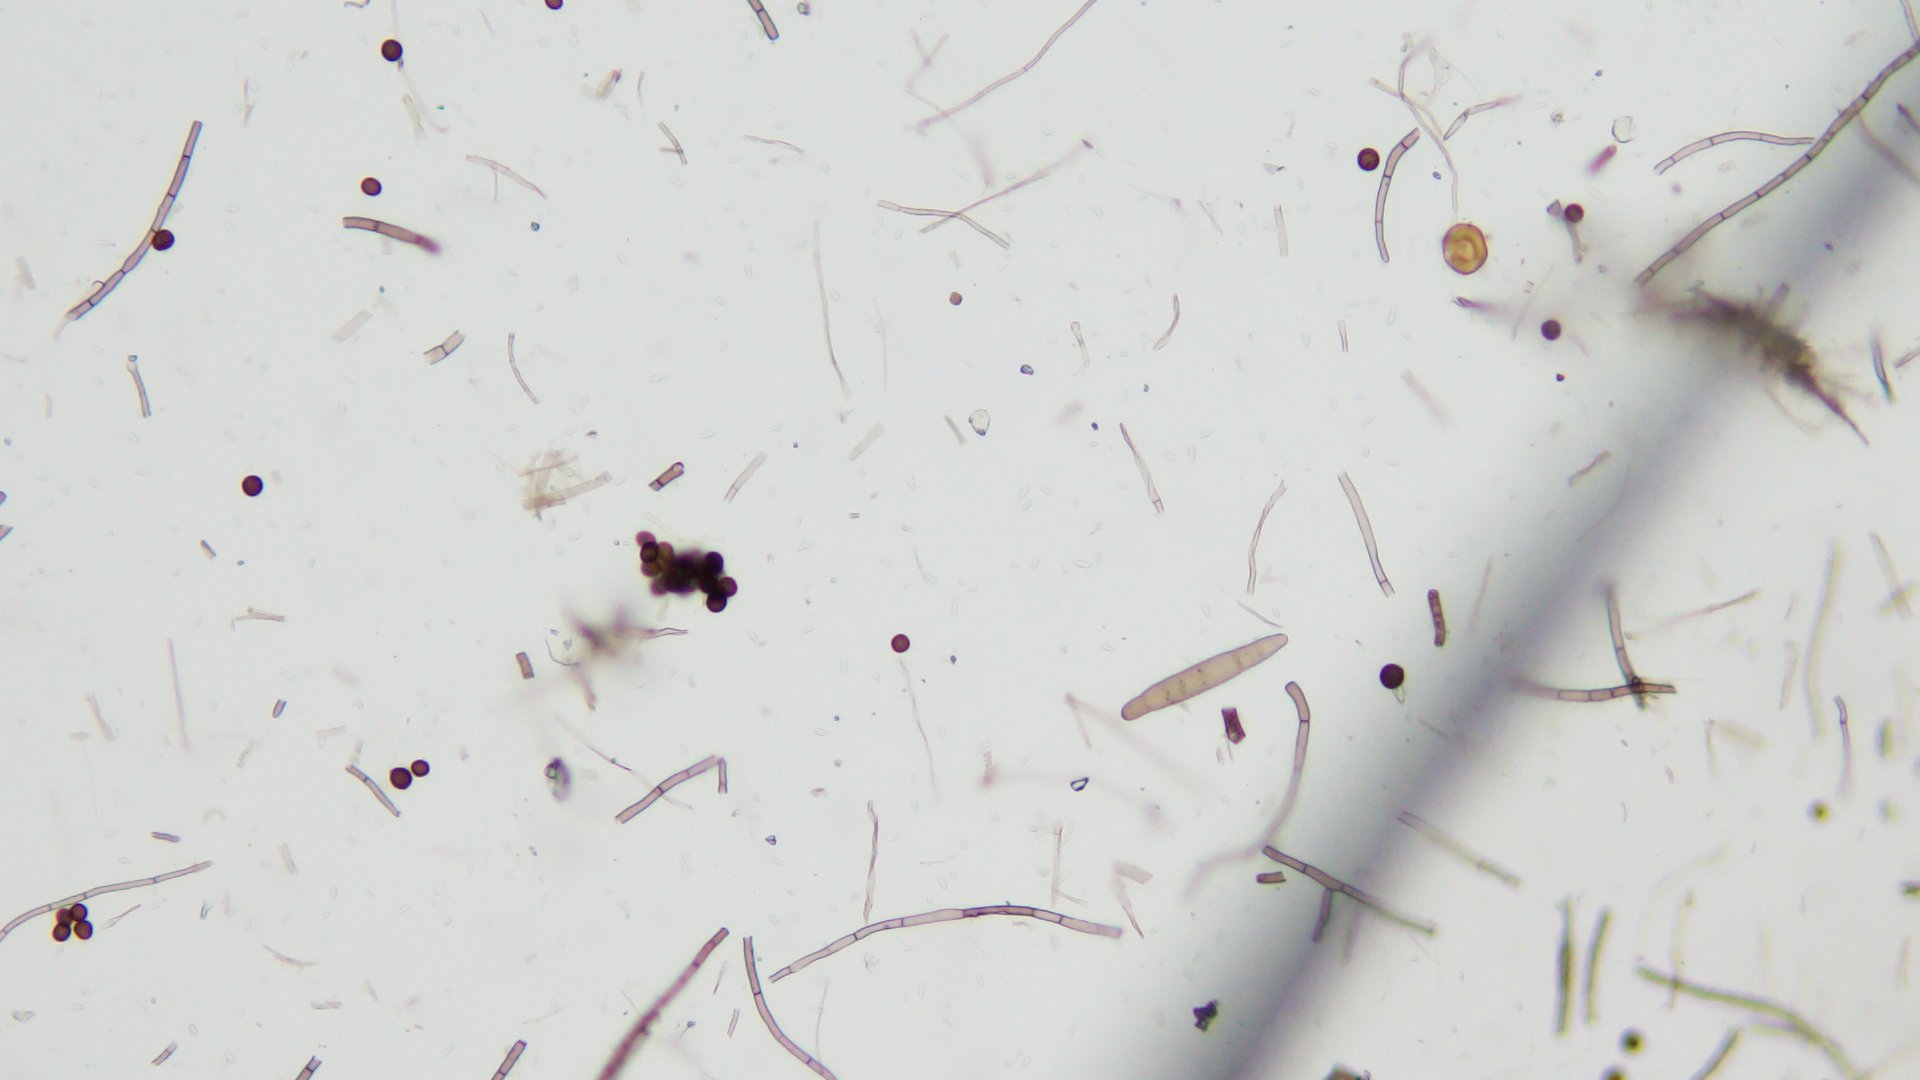dbb_spore: (1121, 636, 1291, 723)
shs_spore: (1379, 663, 1404, 688), (381, 38, 405, 63), (389, 767, 413, 791), (152, 229, 177, 252), (240, 475, 264, 497), (1358, 146, 1379, 167), (1542, 319, 1563, 340), (1565, 202, 1585, 223), (361, 178, 382, 195), (51, 924, 73, 942), (891, 634, 911, 651), (410, 762, 431, 778), (75, 922, 94, 939), (55, 909, 74, 926), (70, 905, 88, 920)
xb_spore: (1440, 219, 1489, 277)
